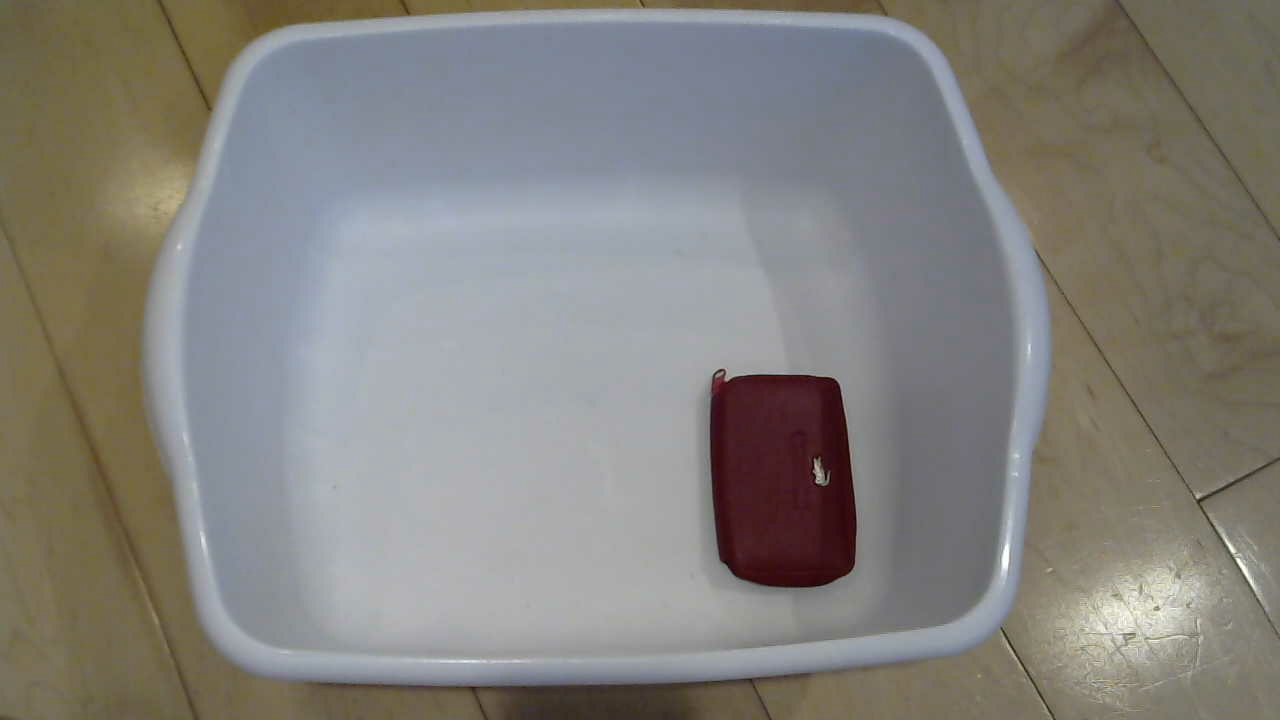wallet: (687, 368, 875, 599)
